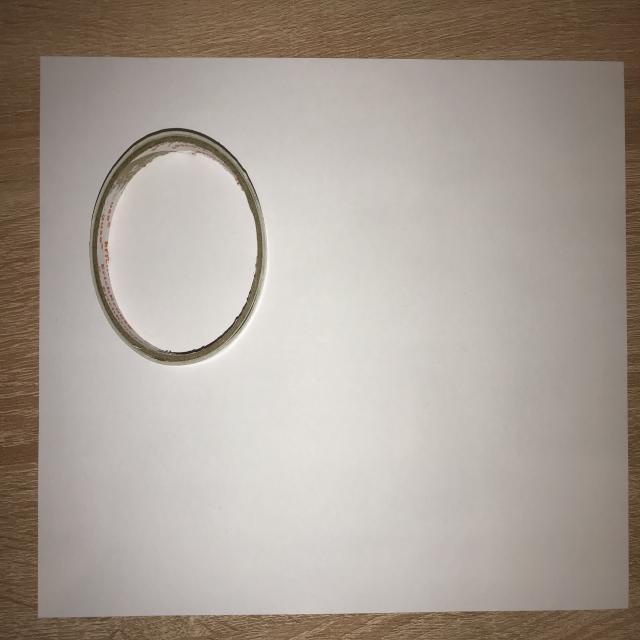scotch: (84, 114, 272, 376)
